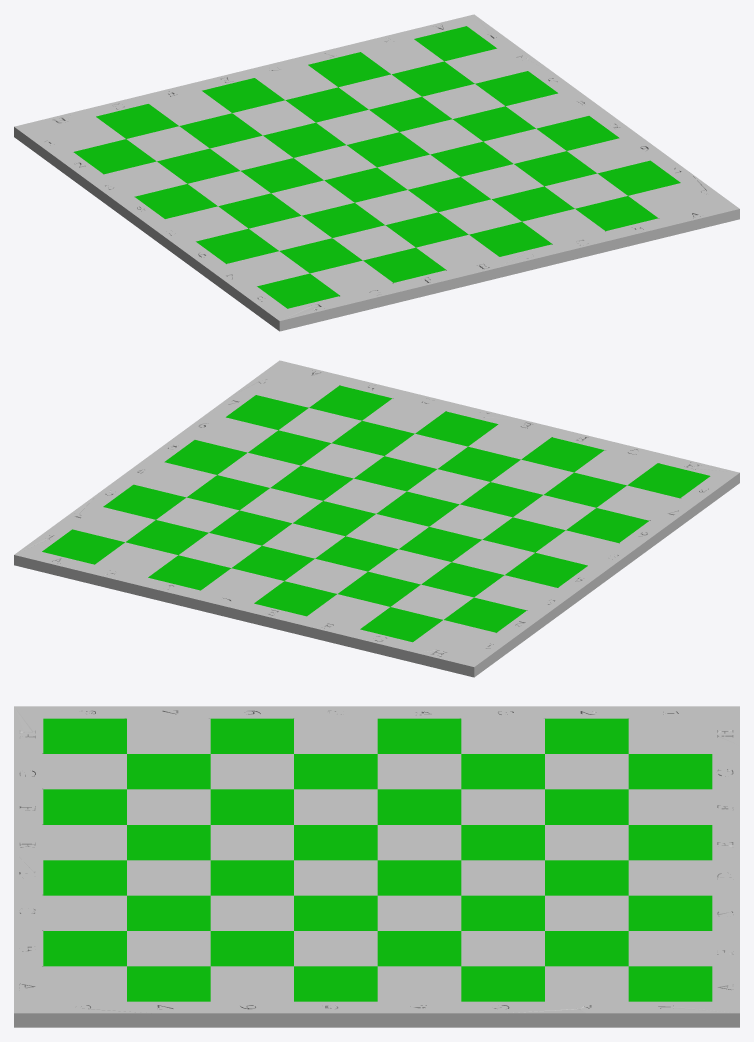
Rendered from chessboard.obj.
3 views of the same model, one above another, from view 1: azimuth 30°, elevation 25°; view 2: azimuth 150°, elevation 25°; view 3: azimuth 270°, elevation 25° (orthographic). The views are drawn at different scales.
Parts seen in each view (by area): view 1: Plane, chessboard; view 2: Plane, chessboard; view 3: Plane, chessboard.
Part boxes in pixels (left/top/right/bottom): Plane: left=43, top=26, right=710, bottom=308; chessboard: left=14, top=14, right=739, bottom=331; Plane: left=42, top=372, right=710, bottom=655; chessboard: left=14, top=360, right=739, bottom=677; Plane: left=43, top=718, right=712, bottom=1001; chessboard: left=14, top=706, right=739, bottom=1027.
Bounding box in the file's own units: 0.51 × 0.011 × 0.51.
